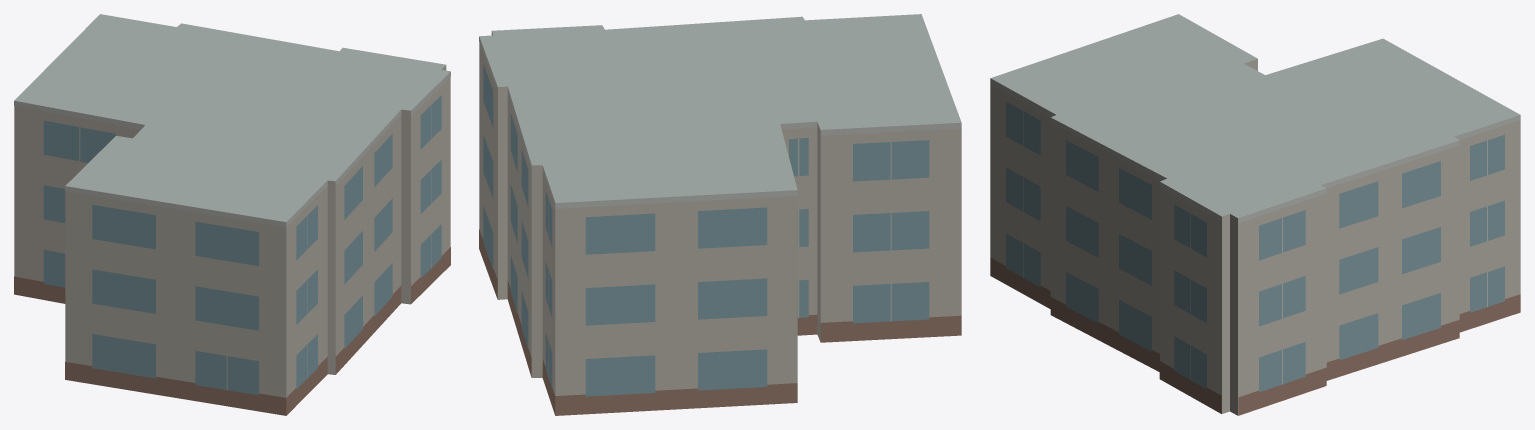
The model's file is survey-upis-32660685.glb.
3 views of the same model, side by side, from view 1: azimuth 30°, elevation 25°; view 2: azimuth 150°, elevation 25°; view 3: azimuth 270°, elevation 25° (orthographic). The views are drawn at different scales.
Visible parts, largest first — view 1: survey-upis-32660685.tmp; view 2: survey-upis-32660685.tmp; view 3: survey-upis-32660685.tmp.
Boxes of the visible parts, <box> form: survey-upis-32660685.tmp: <box>14,14,450,415</box>; survey-upis-32660685.tmp: <box>479,14,961,415</box>; survey-upis-32660685.tmp: <box>990,14,1520,415</box>.
Bounding box in the file's own units: 20.28 × 9.15 × 22.25.
